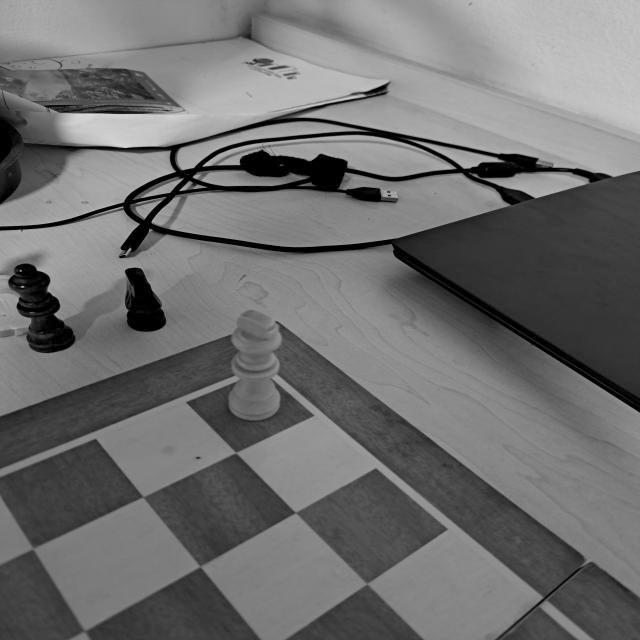chess-table-corners: (209, 354, 314, 398)
